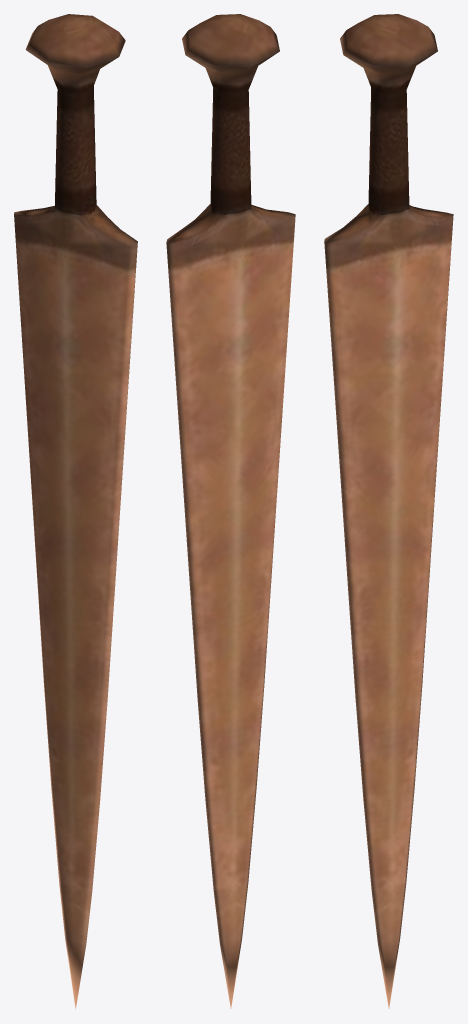
Rendered from rider-weapon-slice-bronzeweapons.glb.
3 views of the same model, side by side, from view 1: azimuth 90°, elevation 25°; view 2: azimuth 150°, elevation 25°; view 3: azimuth 330°, elevation 25° (orthographic).
Bounding box in the file's own units: 0.0994 × 1.09 × 0.123.
Materials: 1 (1 with a texture image).
